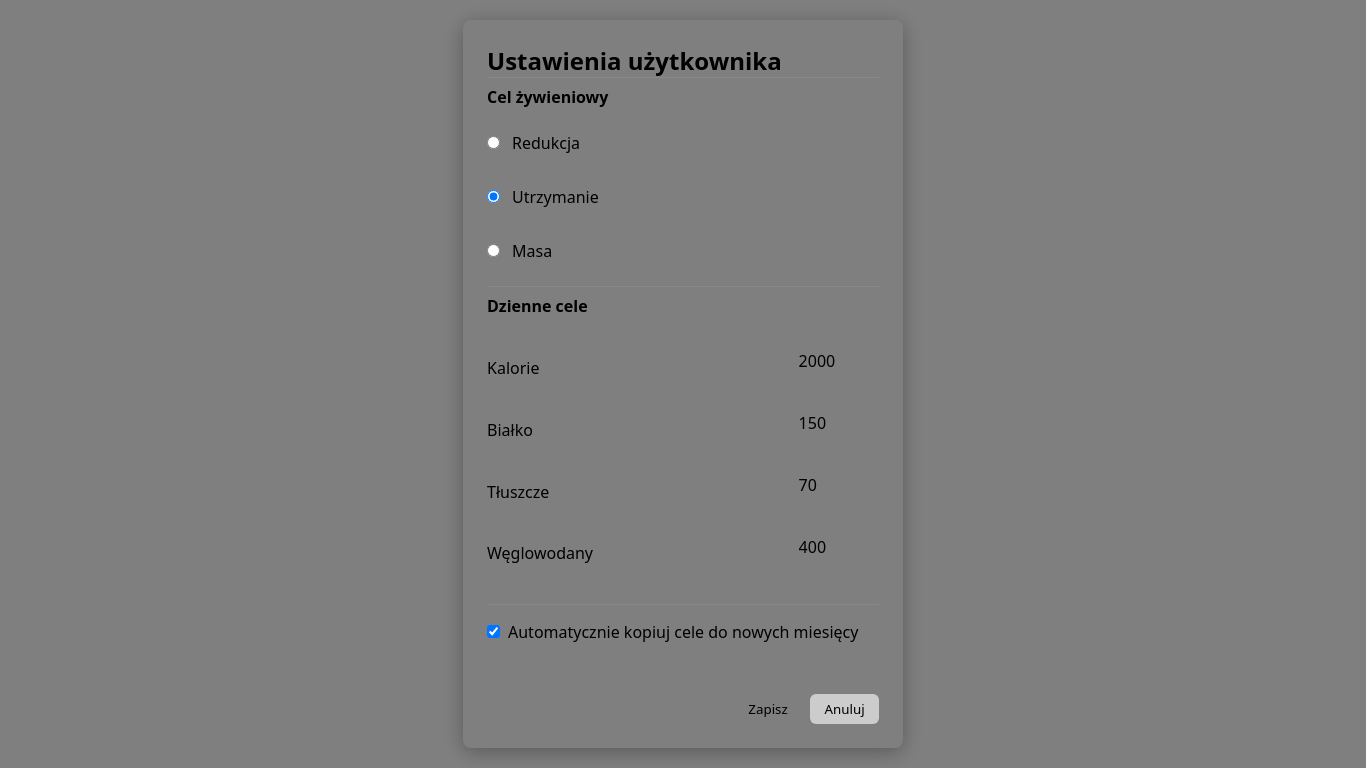
Test: UserSettingsModal frontend validation › shows error when one target is negative
The image size is (1366, 768).
Expected: the radio button labelled "Utrzymanie" is checked, [487,190,500,203]
Replace the text in the number field labelled "Kalorie" with "-12" at (834, 361), box [789,344,879,379]
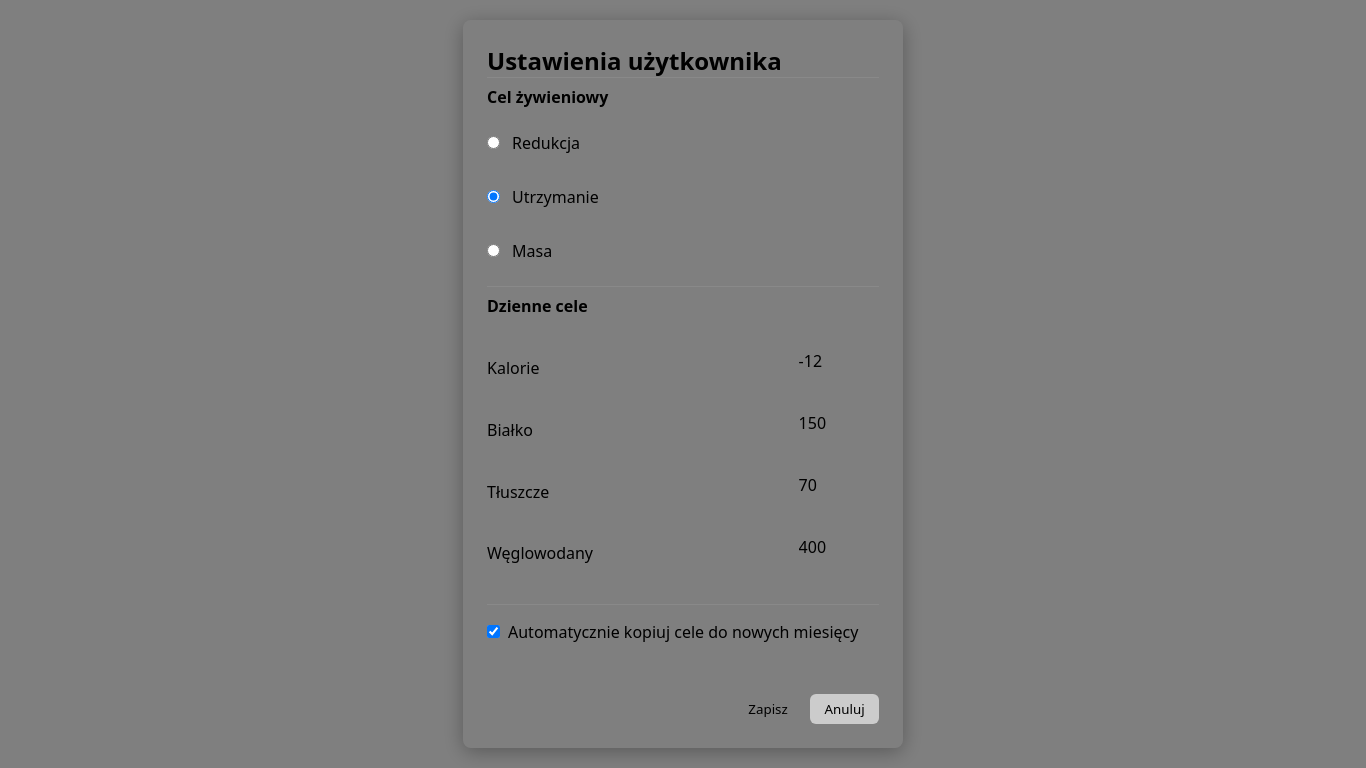
Click the button "Zapisz" at (768, 709), box [734,694,802,724]
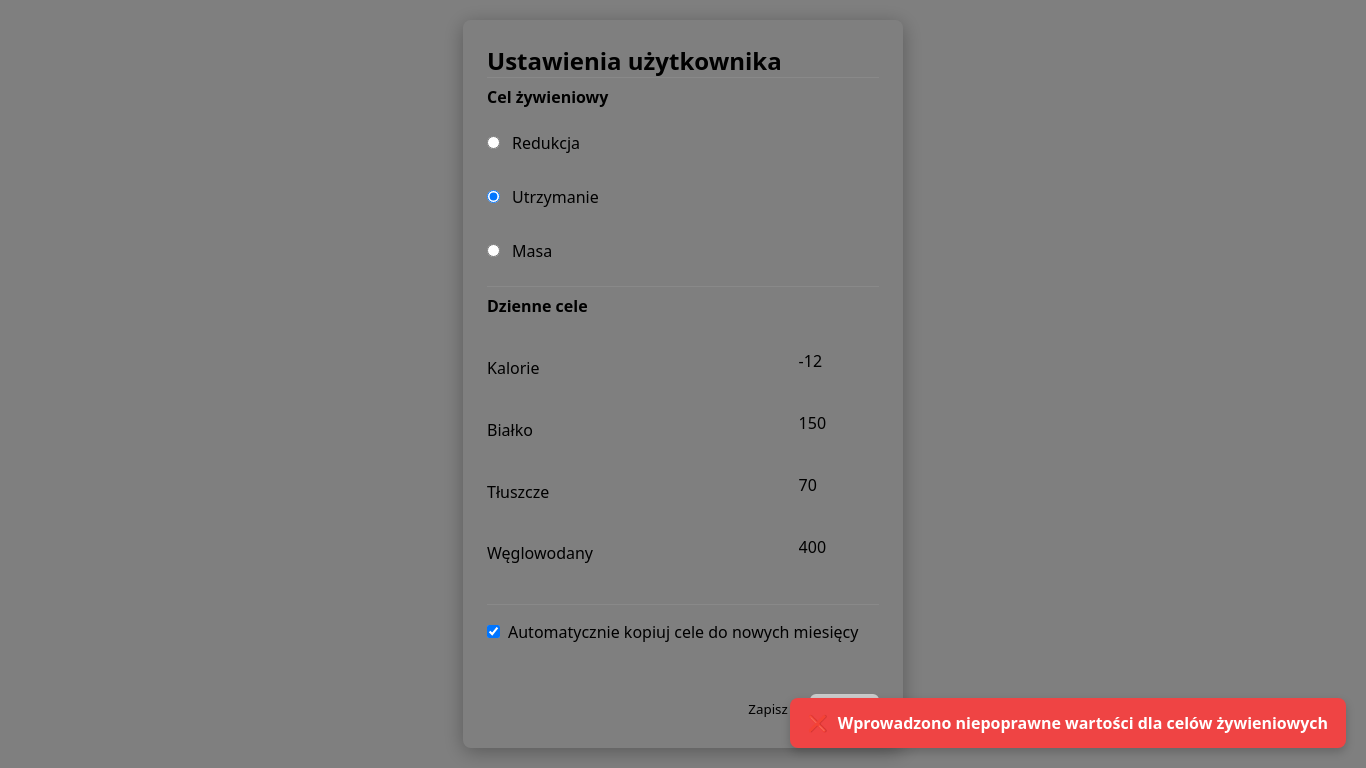
Expected: the text "Wprowadzono niepoprawne wartości dla celów żywieniowych" is shown, [838,712,1328,734]
